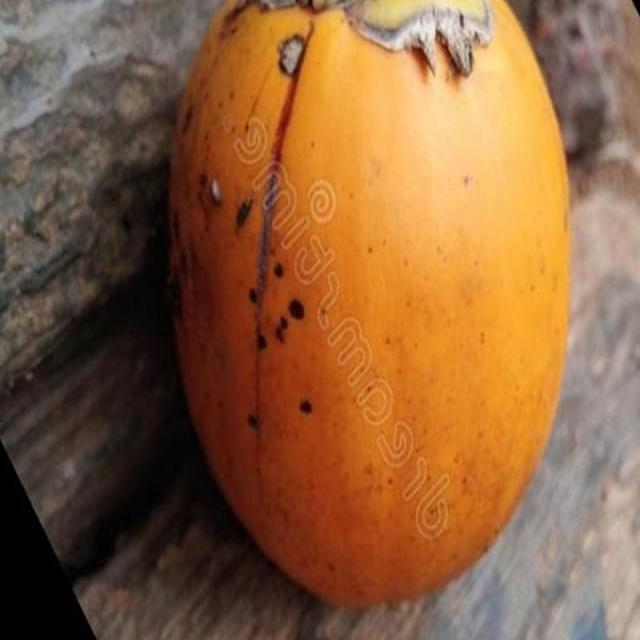good: (162, 0, 573, 613)
